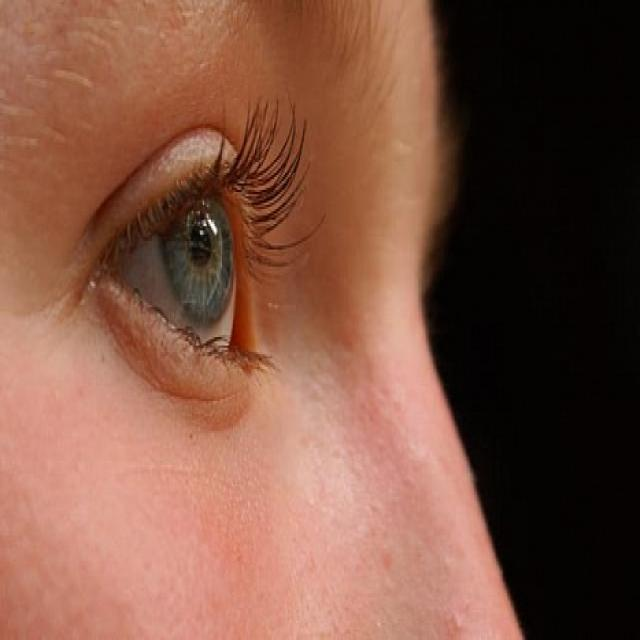Eyes: (65, 125, 305, 393)
